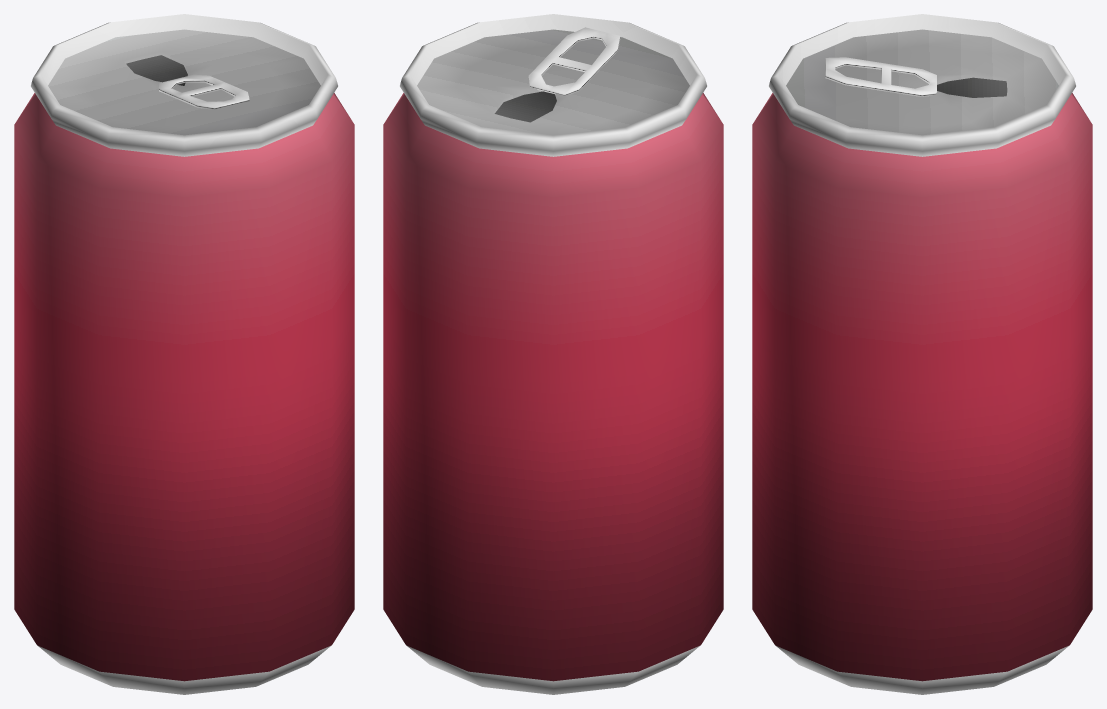
File: SM_Can_purple.fbx
3 renders of one model, left to right at view 1: azimuth 30°, elevation 25°; view 2: azimuth 150°, elevation 25°; view 3: azimuth 270°, elevation 25°, orthographic.
Visible parts, largest first — view 1: Can_red; view 2: Can_red; view 3: Can_red.
Part boxes in pixels (x1,y1,x2,y2): Can_red: [14, 14, 354, 694]; Can_red: [383, 14, 723, 694]; Can_red: [752, 14, 1092, 694].
Bounding box in the file's own units: 14.04 × 25.84 × 14.04.
